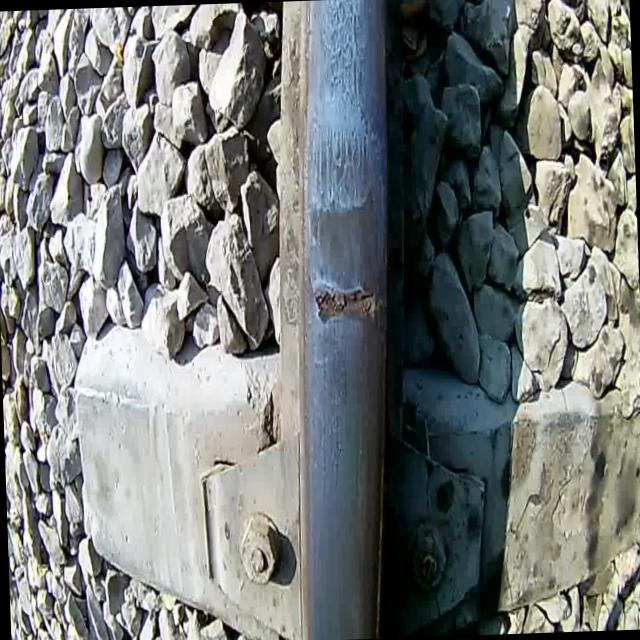Spallings: (306, 272, 383, 334)
Squats: (302, 125, 384, 291), (319, 0, 373, 123)
